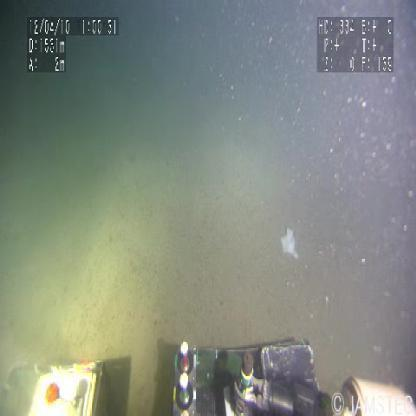Rác: (282, 228, 303, 266)
